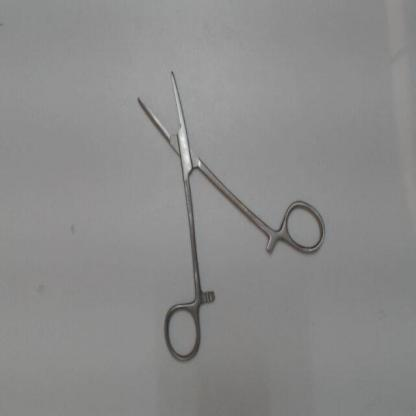Mayo Needle Holder: (129, 55, 332, 368)
